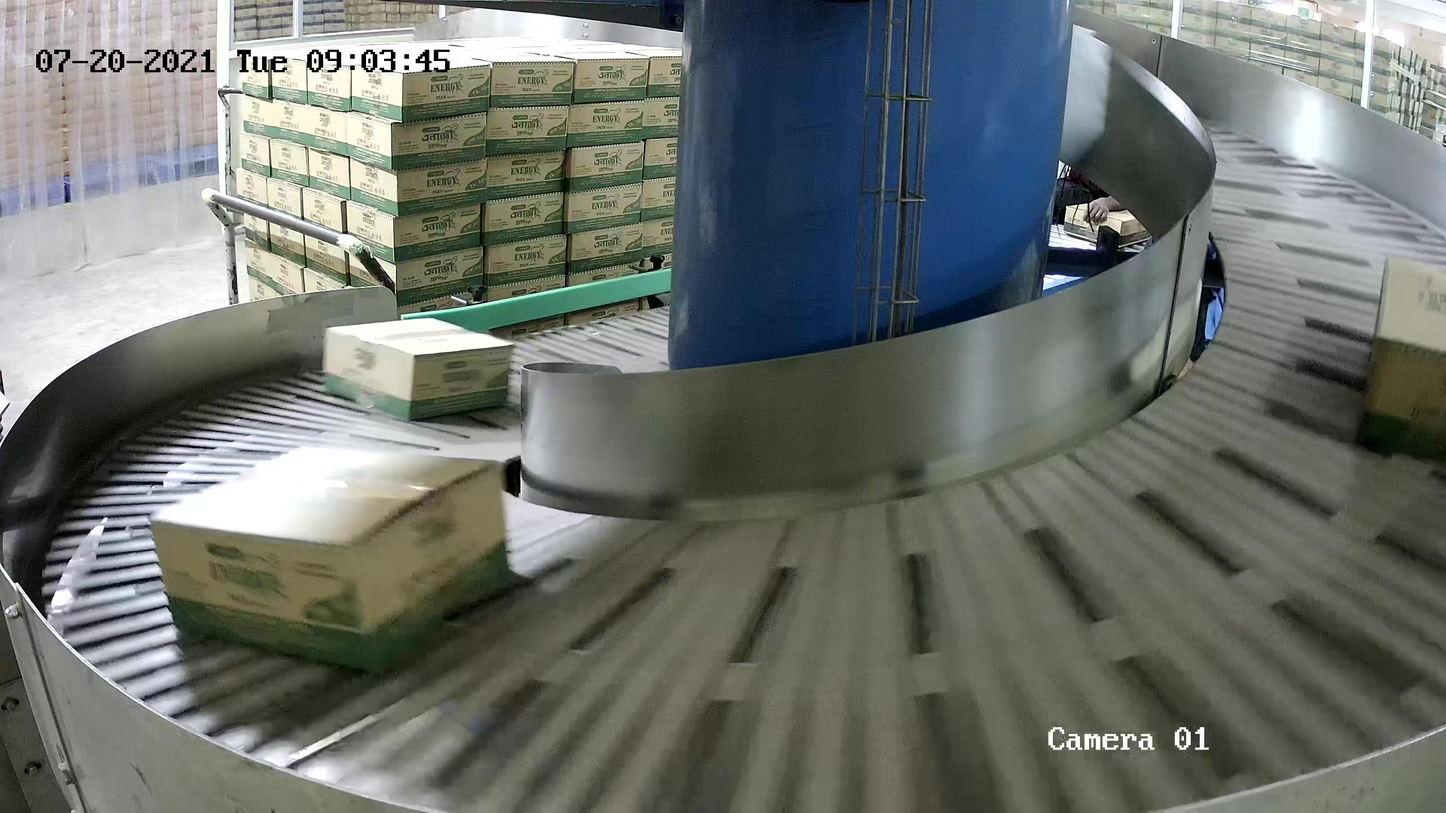Box: (148, 444, 516, 674), (321, 315, 515, 422), (1361, 253, 1446, 453)
